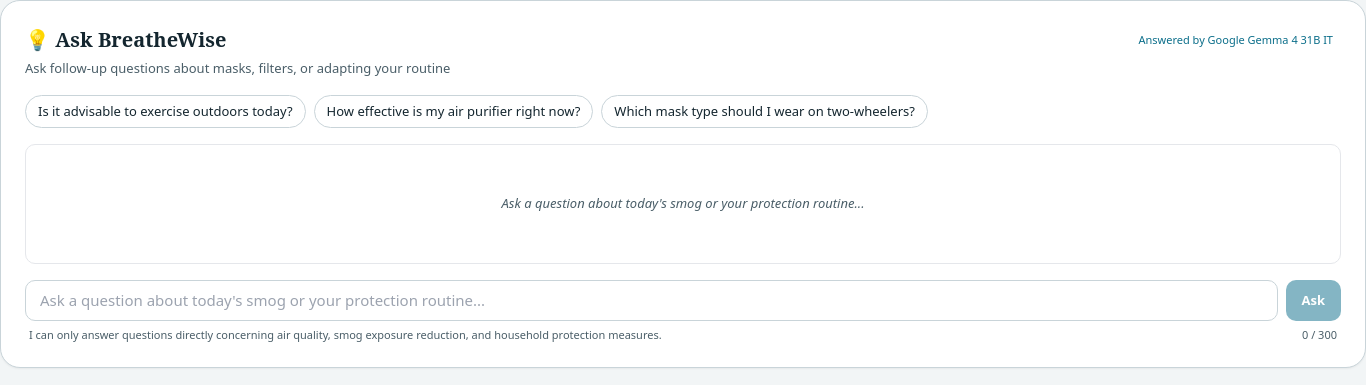
Test: A11y & Component Behavioral Audit › AskPanel log updates and 300 character live counter
Check: the text "0 / 300" is shown, box [1302,326,1337,343]
Step 1. Replace the text in the field with placeholder "Ask a question" with "Hello BreatheWise" → (651, 300), box [25,280,1278,320]
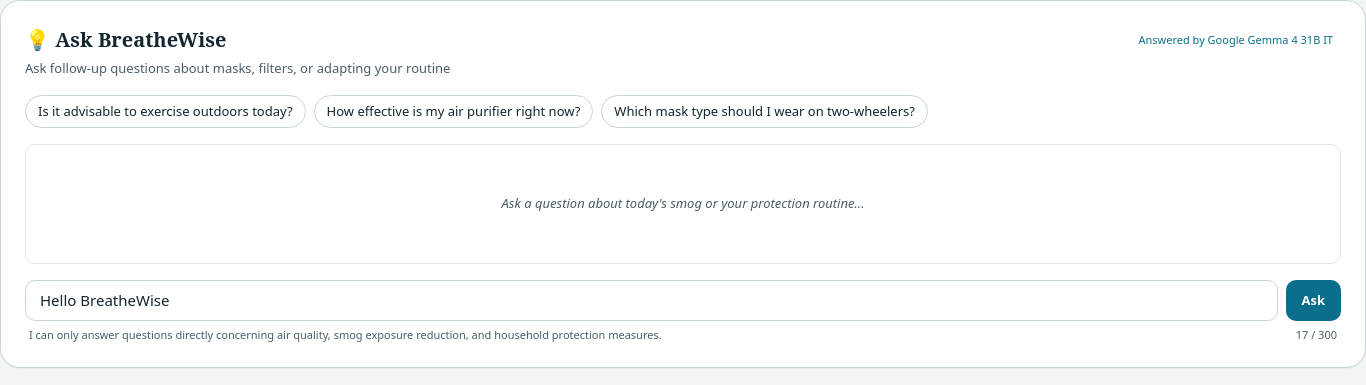
Check: the text "17 / 300" is shown, box [1296,326,1337,343]
